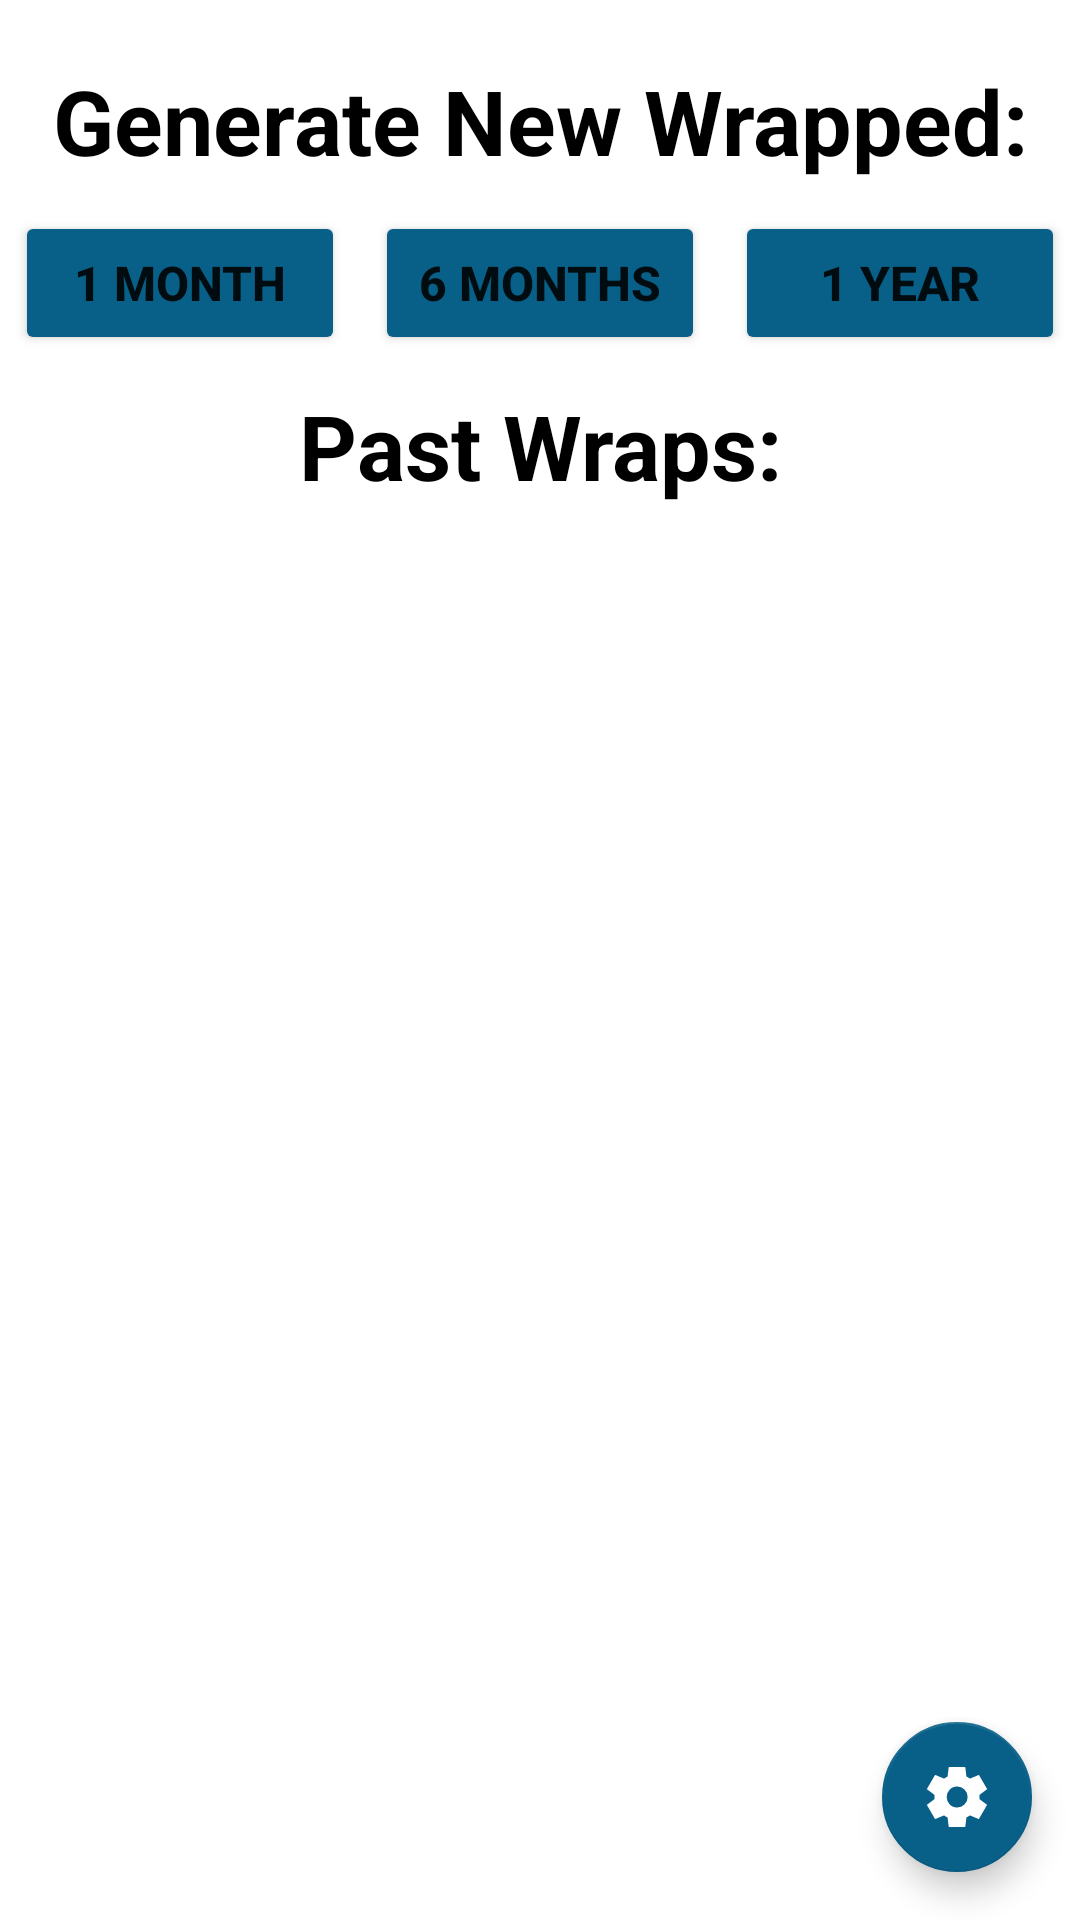

Icon bounding boxes for this 1080 x 1920 phone screenshot, format Rect(x1, y1, x2, y2):
Settings: Rect(882, 1722, 1032, 1872)
